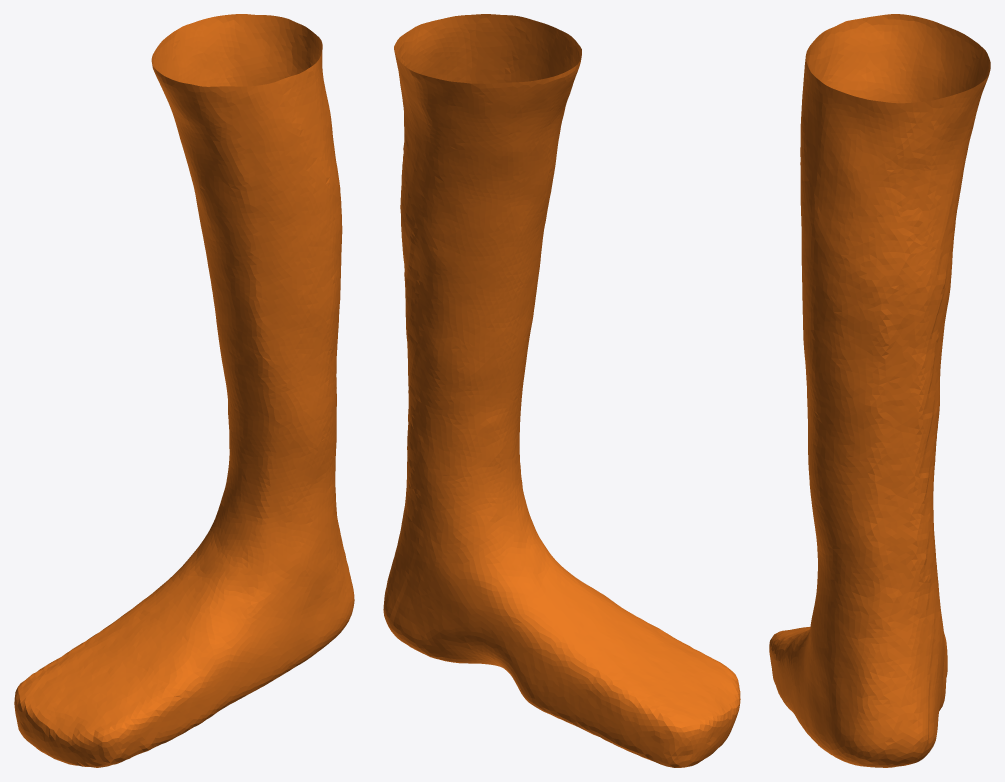
The model's file is leg.gltf.
3 views of the same model, side by side, from view 1: azimuth 30°, elevation 25°; view 2: azimuth 150°, elevation 25°; view 3: azimuth 270°, elevation 25° (orthographic). The views are drawn at different scales.
Visible parts, largest first — view 1: Cleanup; view 2: Cleanup; view 3: Cleanup.
Boxes of the visible parts, x1,y1,x2,y2 form: Cleanup: (14, 14, 354, 767); Cleanup: (383, 14, 740, 767); Cleanup: (769, 14, 990, 767).
Bounding box in the file's own units: 2.06 × 3.95 × 1.09.
